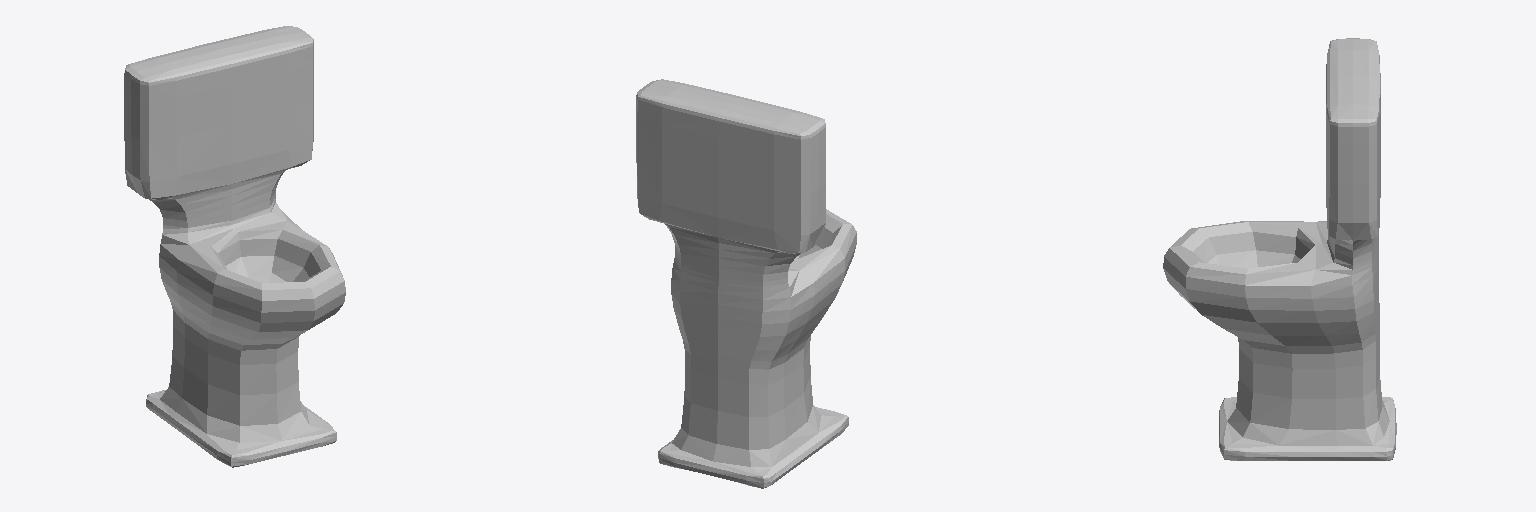
File: toilet.obj
The picture shows the model from 3 angles: view 1: azimuth 30°, elevation 25°; view 2: azimuth 150°, elevation 25°; view 3: azimuth 270°, elevation 25°; orthographic projection.
Visible parts, largest first — view 1: Plane; view 2: Plane; view 3: Plane.
Boxes of the visible parts, <box> form: Plane: <box>124,26,345,467</box>; Plane: <box>636,79,856,488</box>; Plane: <box>1163,38,1396,460</box>.
Size of the model in its own units: 2.17 by 4.23 by 2.49.